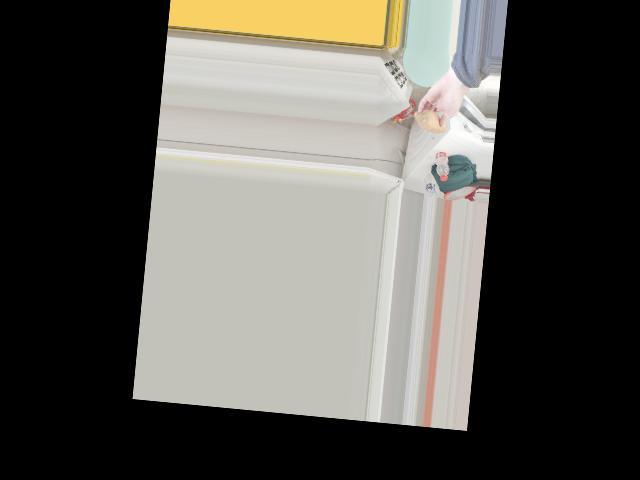sweet_potato: (416, 105, 447, 133)
